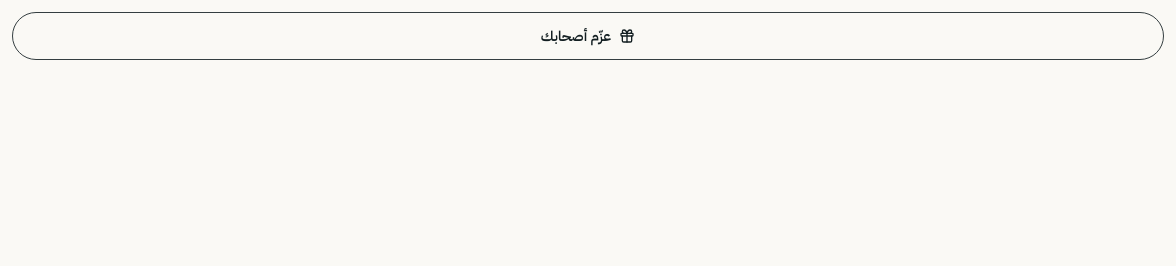
Test: the offer copy › falls back to a plain invite when rewards are not configured
What coordinates should you click on to do the following:
click the button "عزّم أصحابك"
I would click on:
 (588, 36)
Its box is [12,12,1164,60].
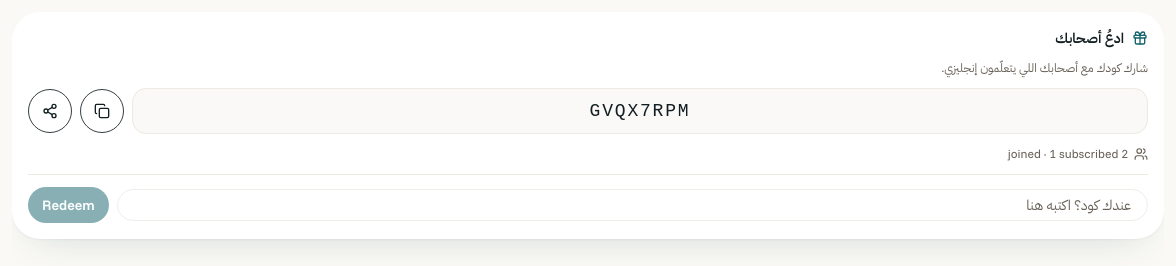
Check: the text "ادعُ أصحابك" is shown, box [1055,28,1124,48]
